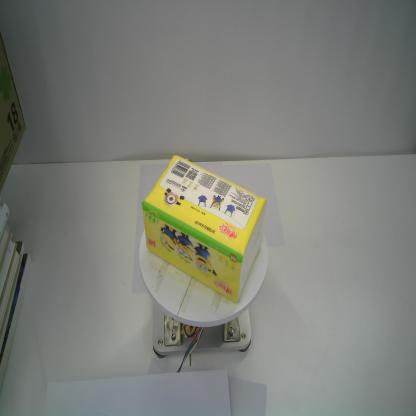Tissue: (142, 152, 268, 304)
